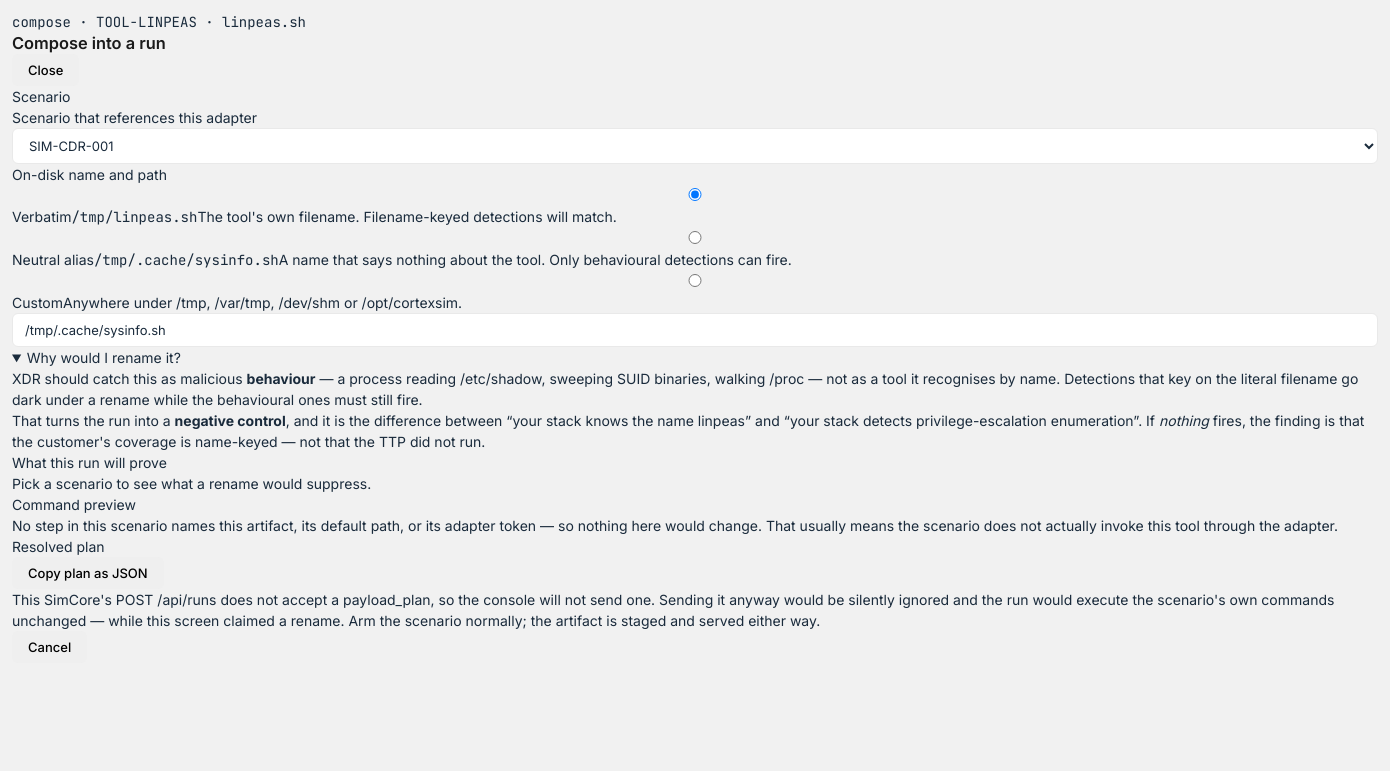
Test case: <PayloadComposer /> — the rename control › reports UNKNOWN rather than "behavioural" when a TTP card cannot be read
Click the radio button with test id "compose-preset-alias" at (695, 238), box [12,231,1378,244]
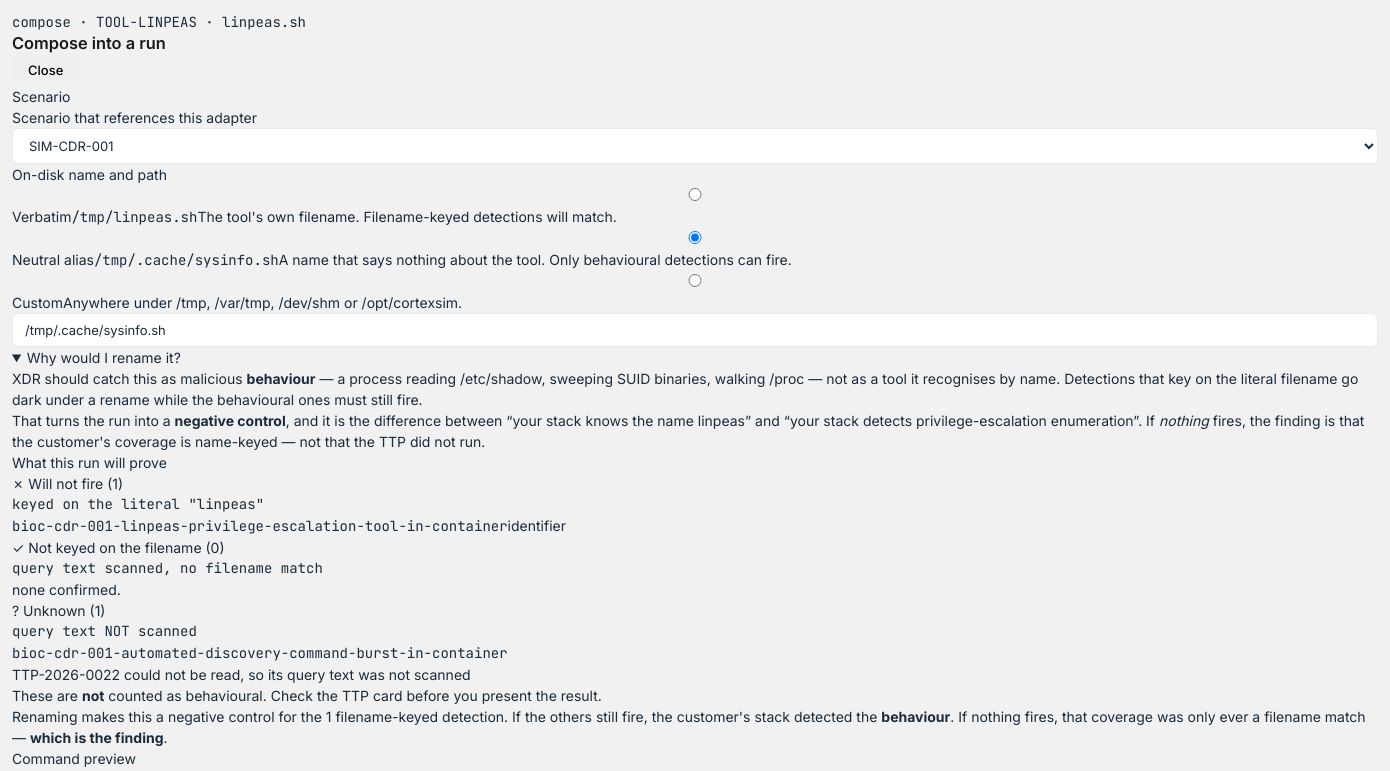
Now the list item with test id "impact-unknown-bioc-cdr-001-automated-discovery-command-burst-in-container" is shown, box [12,644,508,683]
Now the element with test id "impact-panel" shows "query text NOT scanned", box [12,622,197,640]
